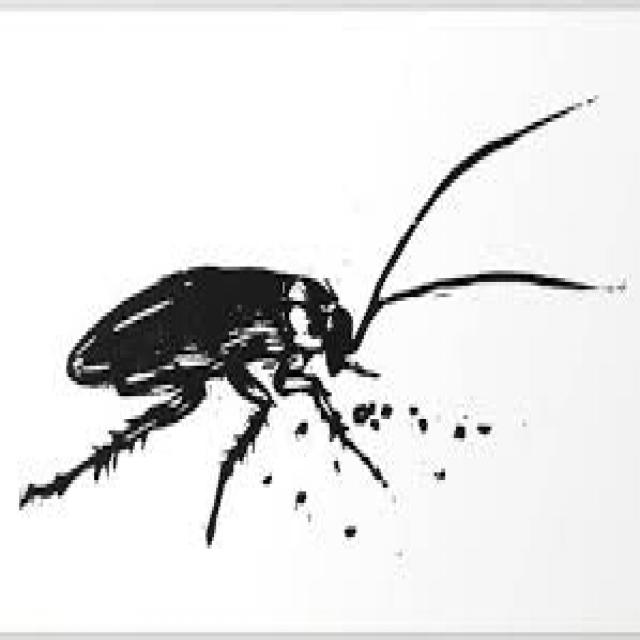Cockroach: (6, 76, 640, 556)
